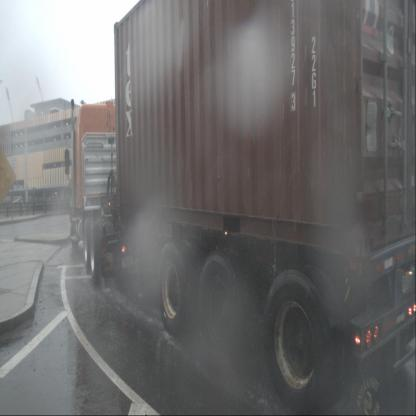vehicle-truck: (70, 99, 145, 285)
